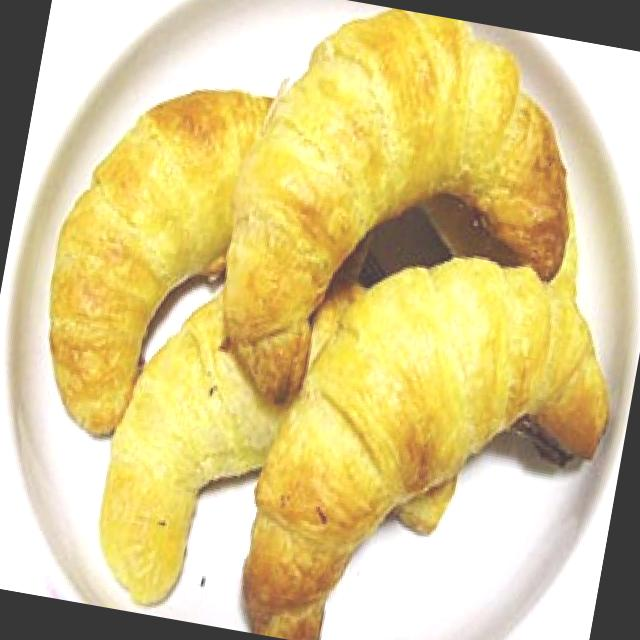Croissant: (184, 0, 614, 440)
